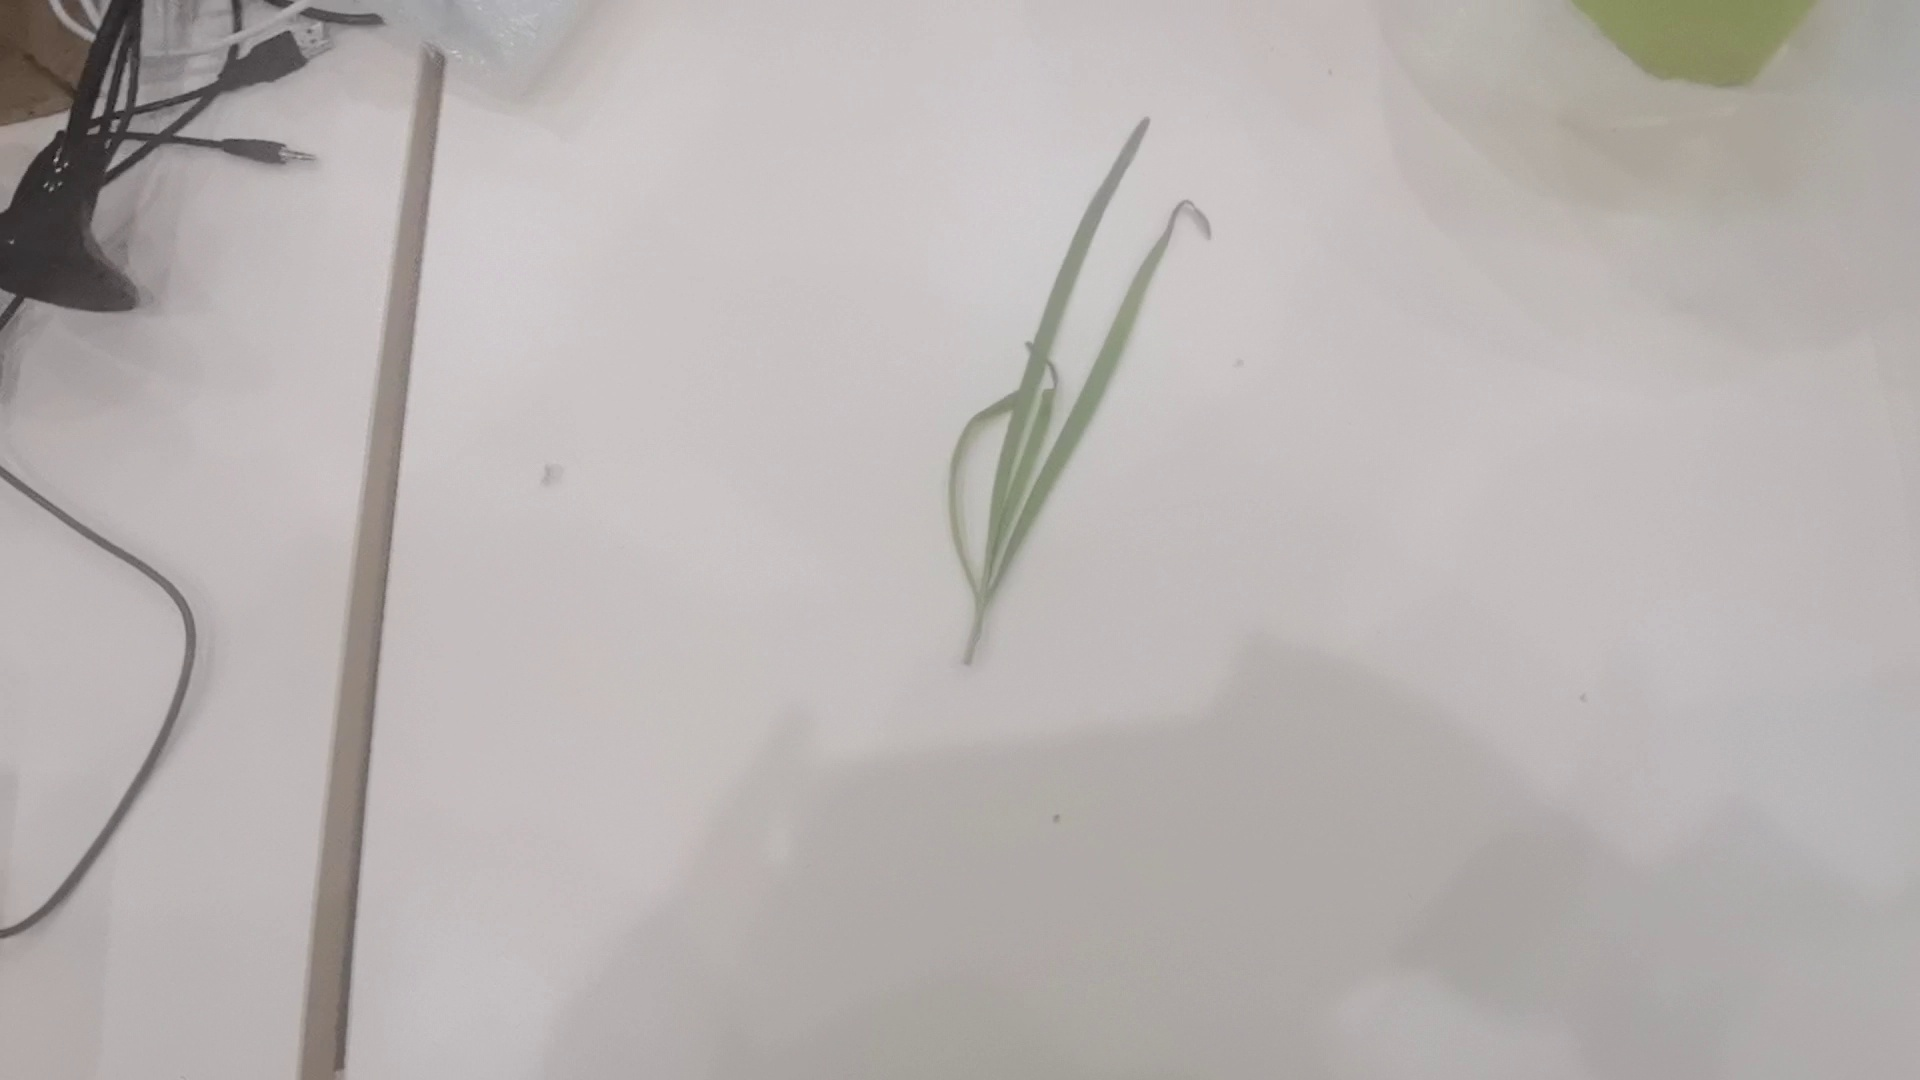chives: (944, 112, 1213, 676)
